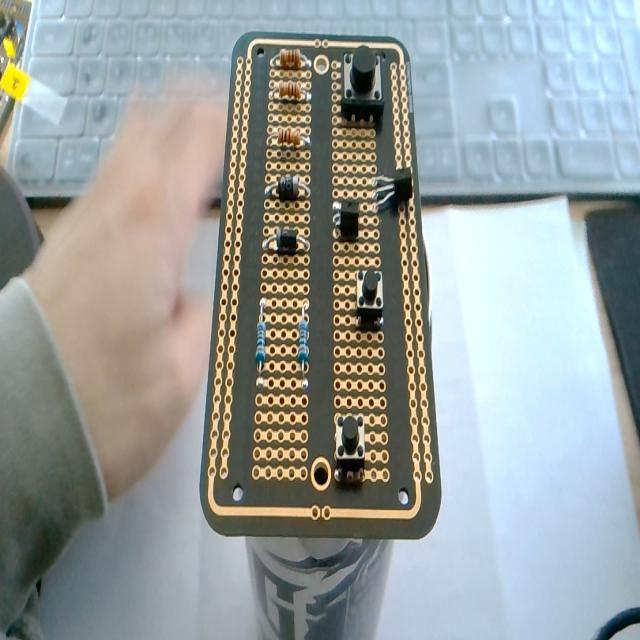diode: (263, 193, 309, 250), (263, 228, 308, 253), (265, 176, 308, 200)
resistor: (254, 294, 268, 390), (298, 299, 310, 389), (271, 48, 310, 73), (271, 81, 311, 103), (269, 130, 309, 150)
switch: (341, 47, 383, 122), (334, 411, 366, 484), (355, 265, 384, 329)
transistor: (371, 167, 414, 210), (333, 199, 360, 239)
